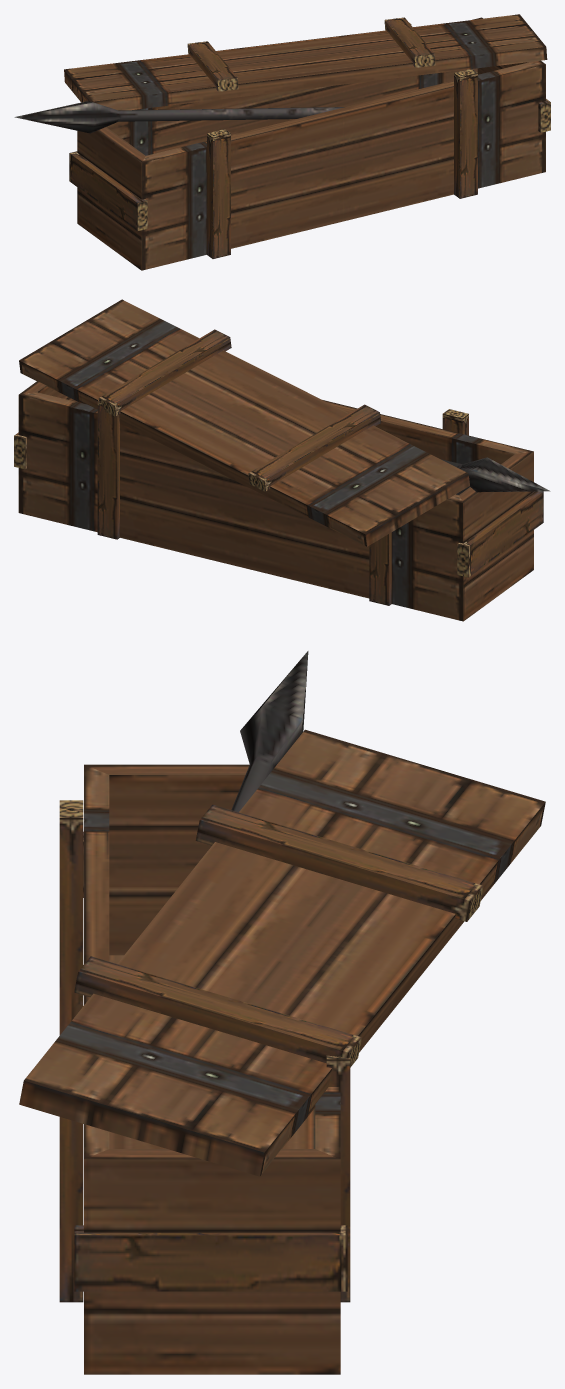
Rendered from 2_WGJ_JianXIang_01.FBX.
3 renders of one model, top to bottom at view 1: azimuth 30°, elevation 25°; view 2: azimuth 150°, elevation 25°; view 3: azimuth 270°, elevation 25°, orthographic. The views are drawn at different scales.
Parts seen in each view (by area): view 1: 2_WGJ_JianXiang_02, 2_WGJ_JianXiang_01, 2_WGJ_Jian_01; view 2: 2_WGJ_JianXiang_02, 2_WGJ_JianXiang_01, 2_WGJ_Jian_01; view 3: 2_WGJ_JianXiang_01, 2_WGJ_JianXiang_02, 2_WGJ_Jian_01.
Boxes of the visible parts, x1,y1,x2,y2 form: 2_WGJ_JianXiang_02: (69,17,550,270); 2_WGJ_JianXiang_01: (64,14,547,110); 2_WGJ_Jian_01: (14,101,344,133); 2_WGJ_JianXiang_02: (14,381,543,621); 2_WGJ_JianXiang_01: (19,299,469,546); 2_WGJ_Jian_01: (441,457,550,492); 2_WGJ_JianXiang_01: (19,729,545,1176); 2_WGJ_JianXiang_02: (59,764,350,1374); 2_WGJ_Jian_01: (231,651,308,812).
Size of the model in its own units: 851 by 241 by 392.
Materials: 2 (2 with a texture image).
